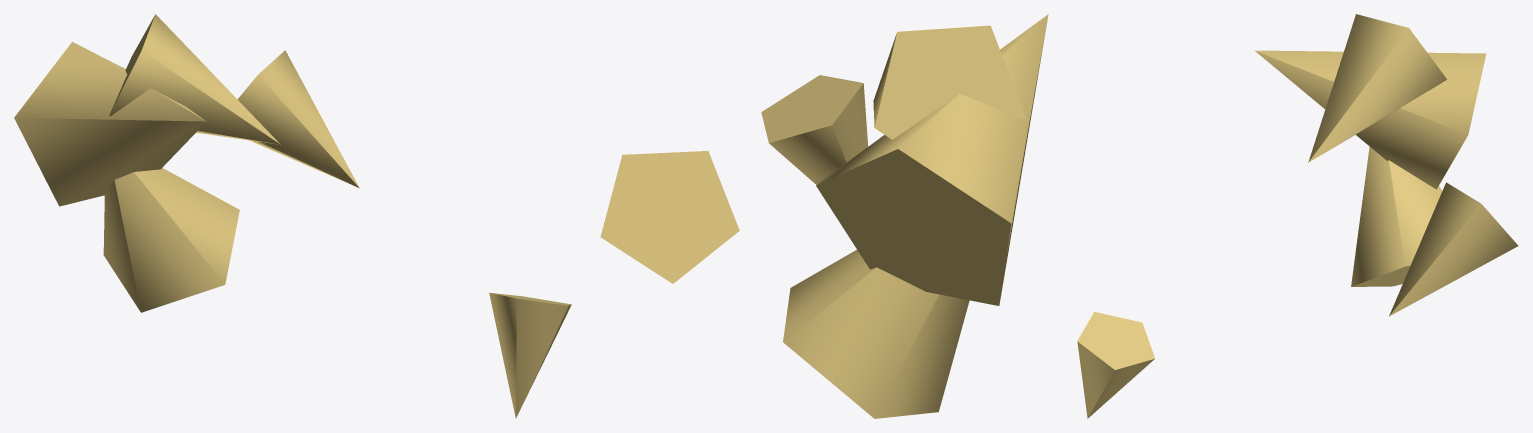
The model's file is seeds.glb.
3 renders of one model, left to right at view 1: azimuth 30°, elevation 25°; view 2: azimuth 150°, elevation 25°; view 3: azimuth 270°, elevation 25°, orthographic. The views are drawn at different scales.
Size of the model in its own units: 0.753 by 0.6274 by 0.8233.
